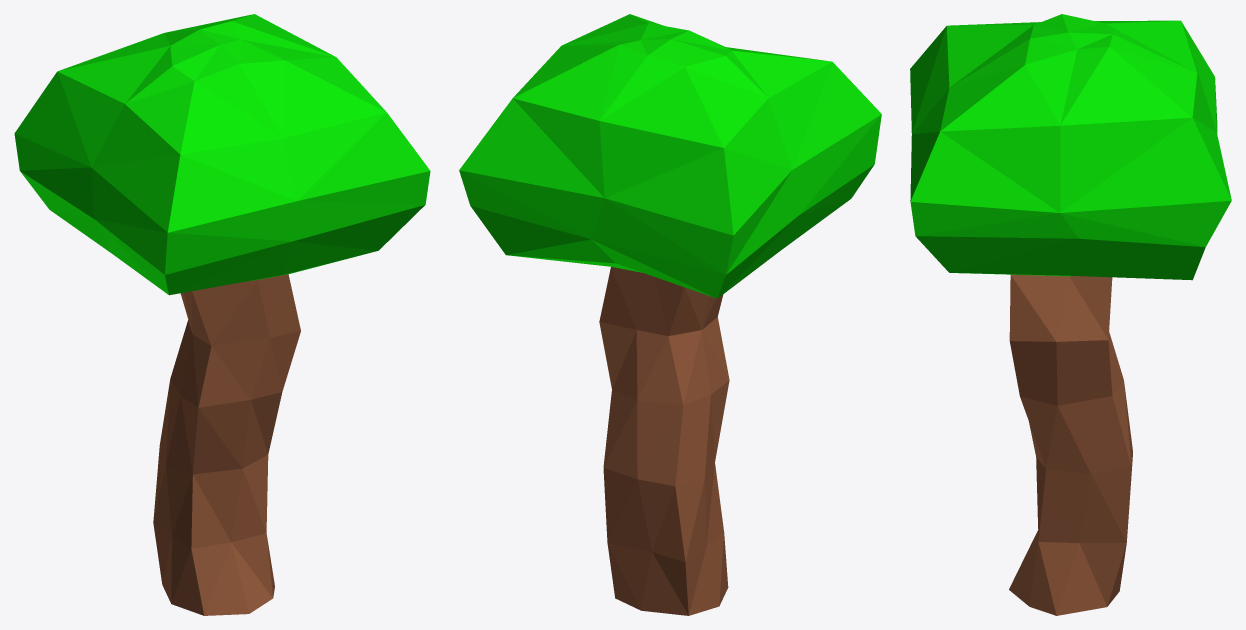
The model's file is tree.dae.
3 views of the same model, side by side, from view 1: azimuth 30°, elevation 25°; view 2: azimuth 150°, elevation 25°; view 3: azimuth 270°, elevation 25° (orthographic).
Visible parts, largest first — view 1: Trree; view 2: Trree; view 3: Trree.
Part boxes in pixels (box(x1,y1,x2,y2)): Trree: box(14, 14, 430, 615); Trree: box(459, 14, 881, 615); Trree: box(910, 14, 1231, 615).
Bounding box in the file's own units: 7.63 × 7.68 × 14.75.
